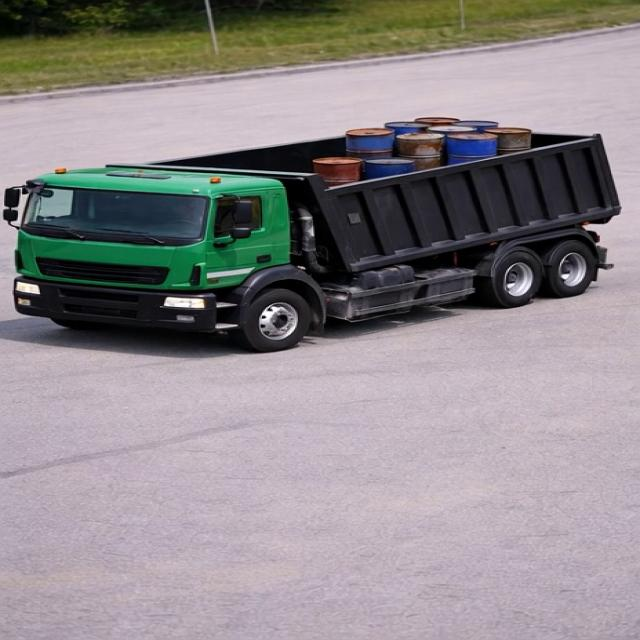Box: (128, 111, 605, 188)
Truck: (2, 76, 638, 350)
